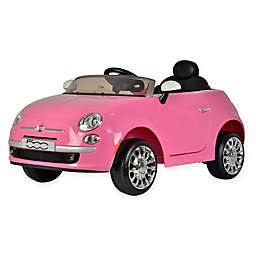car: (8, 57, 248, 198)
